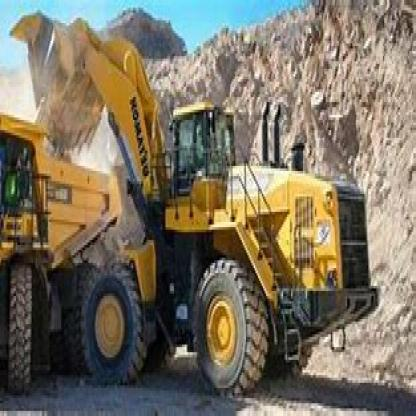bull_dozer/loader/grader: (183, 0, 416, 416)
dump_truck: (36, 112, 288, 416)
